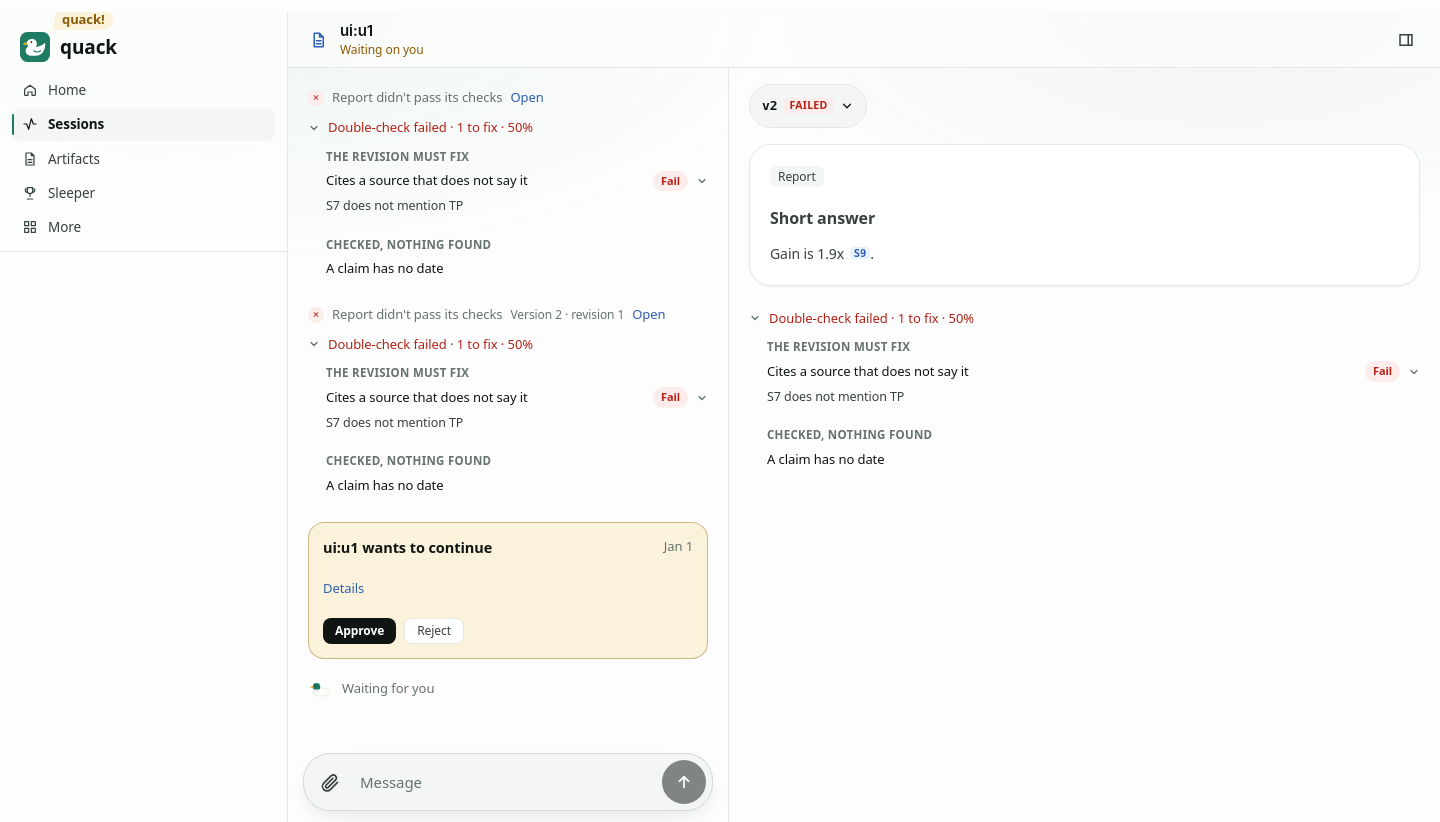
Test: Open on a ledger line shows that version on the pane tab on a phone
Click the button with aria-label "Open Report" at [532, 98], box [510,88,554,108]
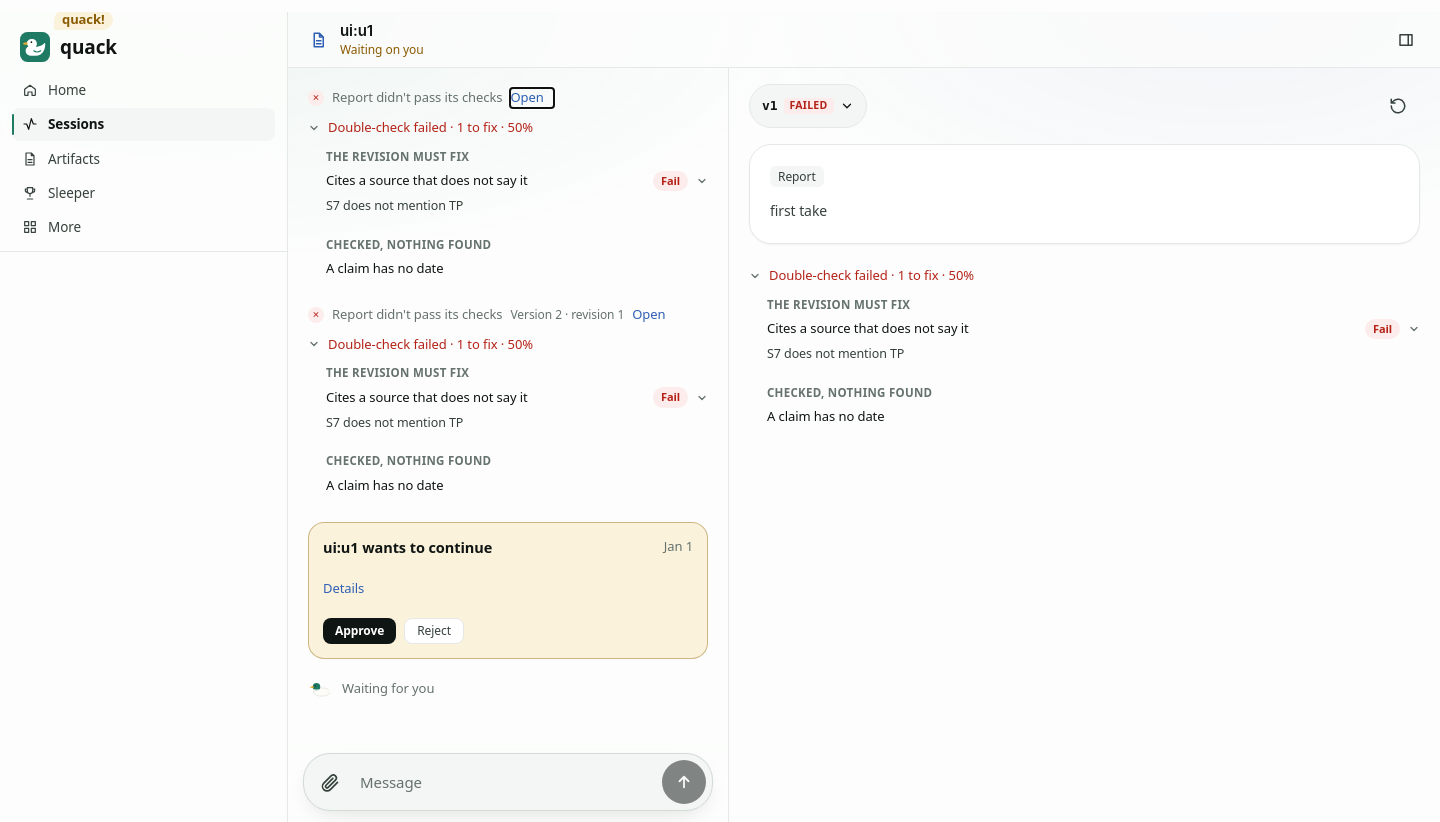
Expected: the text "first take" is shown, [770,201,827,220]
